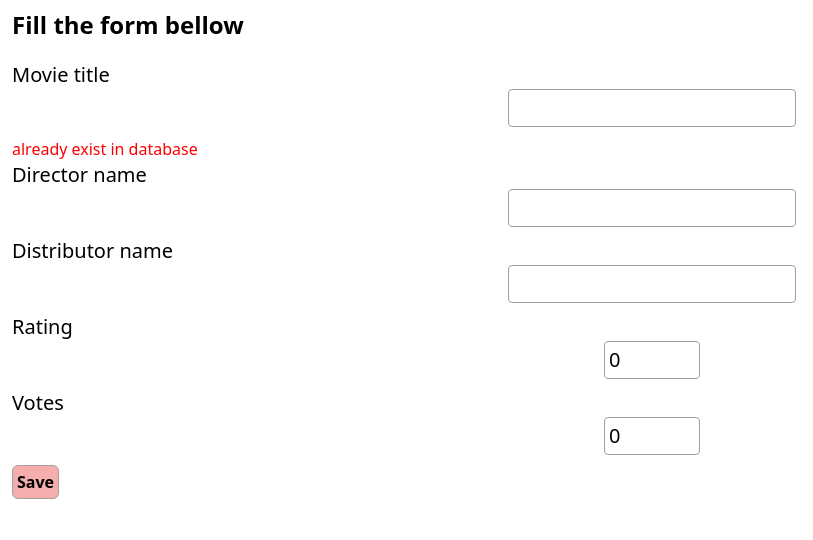
Test: Test the AddMovieFormComponent › validation rating negative value should be trigered
Replace the text in the number field with test id "rating" with "-11.1" at x=652, y=360, box [604,341,700,379]
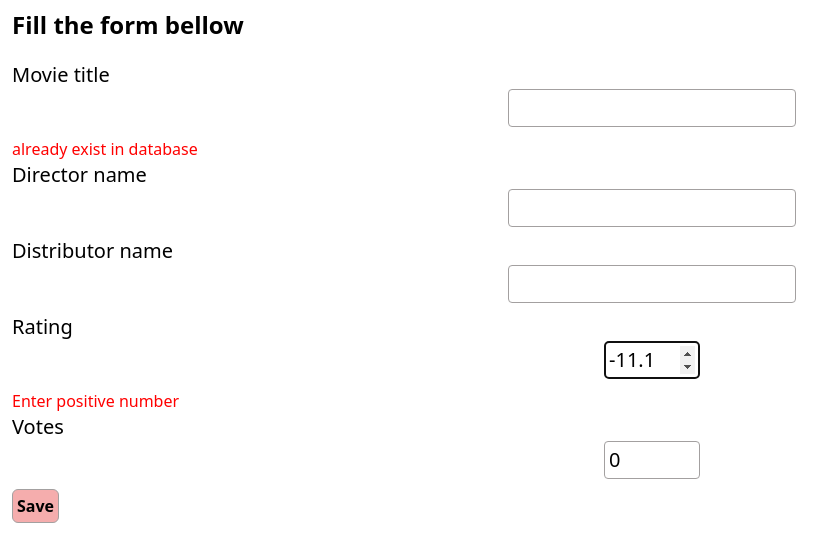
Expected: the button with test id "addMovieSubmit" is disabled, [12,489,59,523]
Now the text with test id "ratingError" reads "Enter positive number", box [12,390,179,412]
